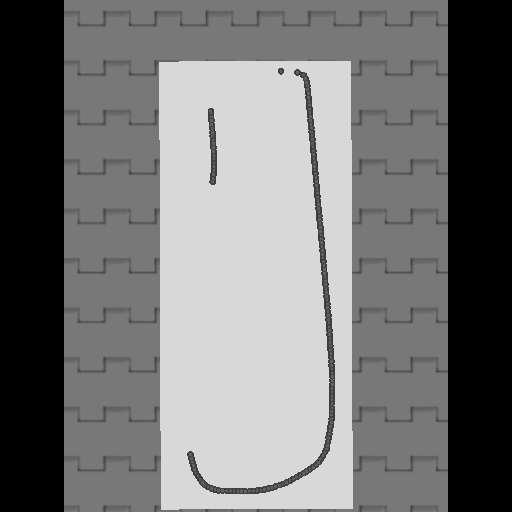Defect: (176, 185, 214, 451)
